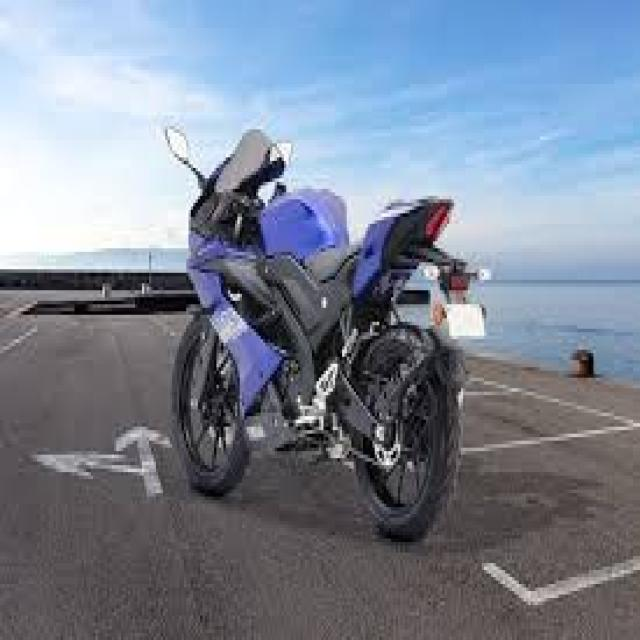bike: (164, 122, 486, 542)
